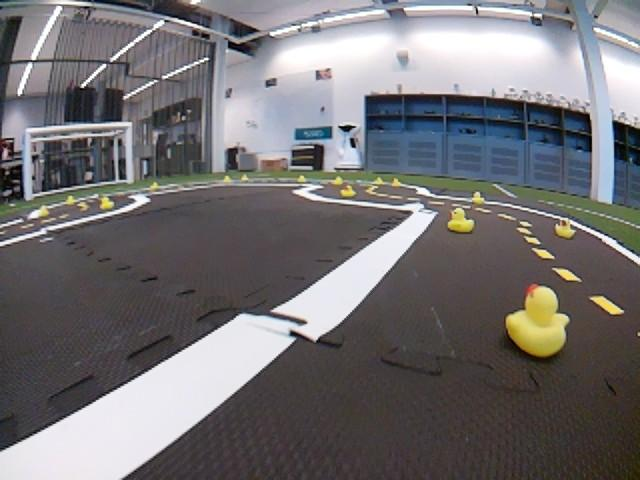Duckies: (504, 280, 571, 359), (446, 207, 475, 234), (553, 217, 577, 240), (470, 191, 487, 205), (340, 185, 356, 198), (98, 197, 114, 210), (38, 205, 50, 218), (331, 176, 344, 185), (65, 196, 76, 205), (392, 178, 402, 187), (222, 175, 232, 183), (150, 181, 160, 189), (374, 177, 384, 185), (296, 175, 306, 182), (241, 175, 249, 181)
